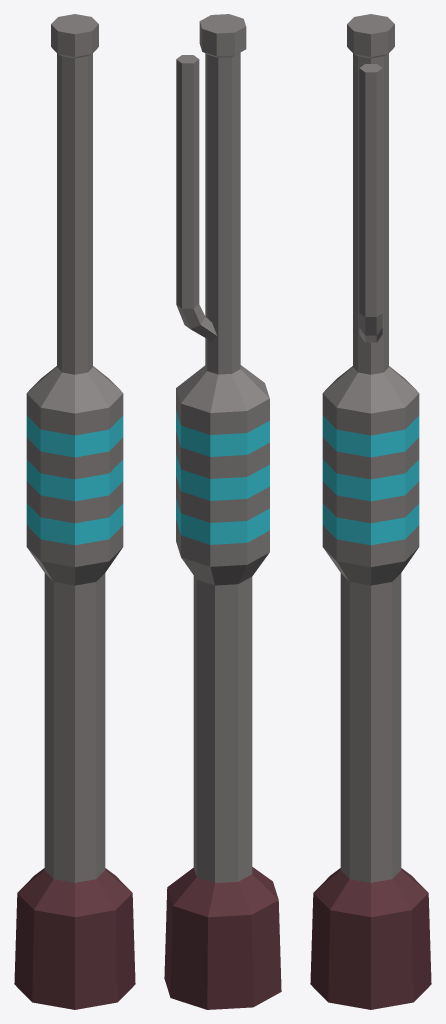
The model's file is scifi-pole-light.fbx.
The picture shows the model from 3 angles, left to right: view 1: azimuth 90°, elevation 25°; view 2: azimuth 210°, elevation 25°; view 3: azimuth 270°, elevation 25°; orthographic projection.
Parts seen in each view (by area): view 1: scifi-pole-light; view 2: scifi-pole-light; view 3: scifi-pole-light.
Part boxes in pixels (left/top/right/bottom): scifi-pole-light: left=14, top=14, right=135, bottom=1009; scifi-pole-light: left=164, top=14, right=281, bottom=1009; scifi-pole-light: left=310, top=14, right=431, bottom=1009.
Size of the model in its own units: 0.576 by 5.04 by 0.576.
